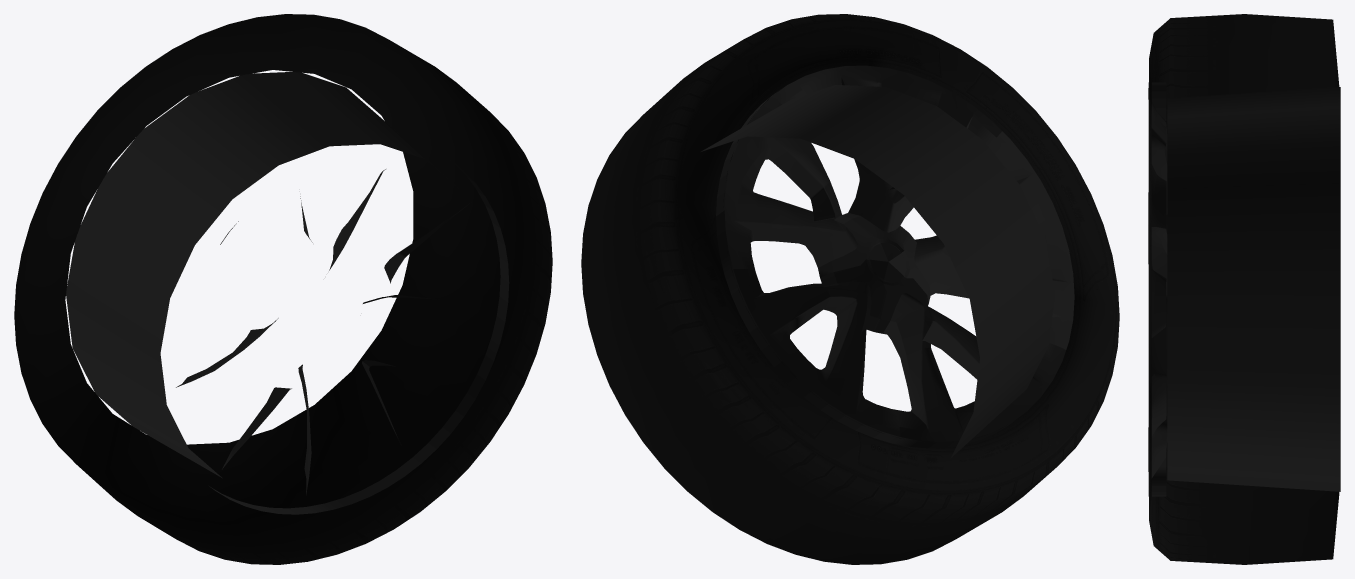
File: Cyberstream.glb
The picture shows the model from 3 angles, left to right: view 1: azimuth 30°, elevation 25°; view 2: azimuth 150°, elevation 25°; view 3: azimuth 270°, elevation 25°; orthographic projection. The views are drawn at different scales.
Parts seen in each view (by area): view 1: Wheel_Cyberstream2; view 2: Wheel_Cyberstream2; view 3: Wheel_Cyberstream2.
Boxes of the visible parts, x1=… form: Wheel_Cyberstream2: x1=14, y1=14, x2=552, y2=564; Wheel_Cyberstream2: x1=581, y1=14, x2=1119, y2=564; Wheel_Cyberstream2: x1=1148, y1=14, x2=1340, y2=564.
Size of the model in its own units: 0.7408 by 0.7393 by 0.2582.
2 materials, 2 textured.
